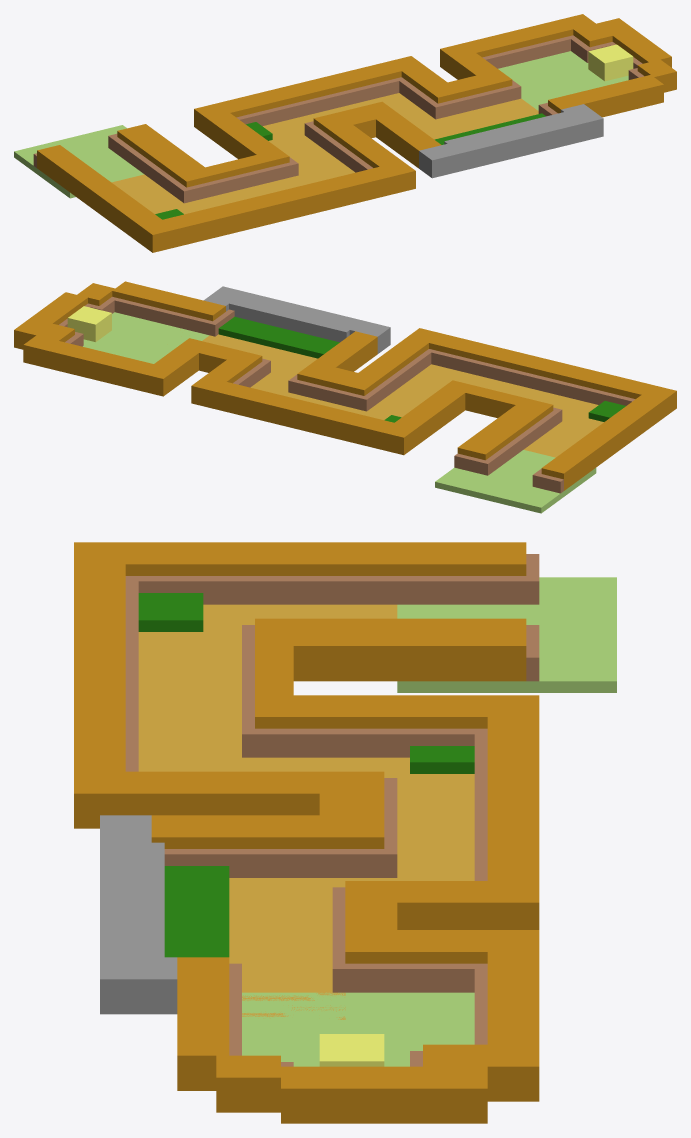
Rendered from letsGoPicachu_01.fbx.
3 views of the same model, one above another, from view 1: azimuth 30°, elevation 25°; view 2: azimuth 150°, elevation 25°; view 3: azimuth 270°, elevation 25° (orthographic). The views are drawn at different scales.
Parts seen in each view (by area): view 1: Cube.042, Cube.038, Cube.043, Cube.030, Cube.082, Cube.070, Cube.036, Cube.027, Cube.054, Cube.073, Cube.029, Cube.034 (+26 smaller); view 2: Cube.030, Cube.042, Cube.070, Cube.043, Cube.034, Cube.082, Cube.046, Cube.029, Cube.027, Cube.079, Cube.073, Cube.038 (+28 smaller); view 3: Cube.027, Cube.043, Cube.082, Cube.070, Cube.042, Cube.075, Cube.041, Cube.030, Cube.045, Cube.064, Cube.034, Cube.039 (+33 smaller).
Part boxes in pixels (<box>): Cube.042: <box>139,166,392,252</box>; Cube.038: <box>419,114,580,178</box>; Cube.043: <box>37,145,161,242</box>; Cube.030: <box>217,56,424,117</box>; Cube.082: <box>498,51,628,110</box>; Cube.070: <box>14,125,143,198</box>; Cube.036: <box>548,75,663,117</box>; Cube.027: <box>117,124,215,187</box>; Cube.054: <box>236,77,404,126</box>; Cube.073: <box>263,121,354,183</box>; Cube.029: <box>194,103,278,159</box>; Cube.034: <box>463,14,595,57</box>; Cube.030: <box>191,376,394,449</box>; Cube.042: <box>429,333,676,417</box>; Cube.070: <box>435,450,596,513</box>; Cube.043: <box>541,395,663,490</box>; Cube.034: <box>23,335,153,390</box>; Cube.082: <box>83,312,209,363</box>; Cube.046: <box>426,349,635,405</box>; Cube.029: <box>381,387,465,455</box>; Cube.027: <box>457,398,553,460</box>; Cube.079: <box>218,316,339,358</box>; Cube.073: <box>362,364,475,419</box>; Cube.038: <box>232,292,390,353</box>; Cube.027: <box>255,618,526,681</box>; Cube.043: <box>125,542,526,575</box>; Cube.082: <box>242,992,474,1066</box>; Cube.070: <box>397,577,616,692</box>; Cube.042: <box>74,542,125,771</box>; Cube.075: <box>138,648,241,757</box>; Cube.041: <box>74,771,319,828</box>; Cube.030: <box>487,717,539,929</box>; Cube.045: <box>125,576,526,604</box>; Cube.064: <box>332,1066,487,1123</box>; Cube.034: <box>487,952,539,1101</box>; Cube.039: <box>151,815,384,848</box>.
Bounding box in the file's own units: 20000 × 800 × 8400.
